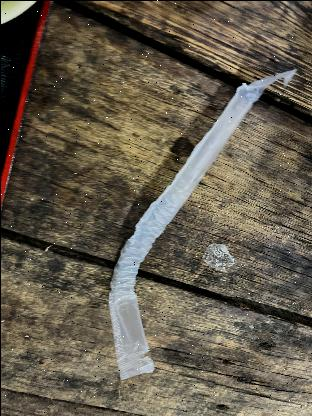Others: (113, 66, 297, 382)
